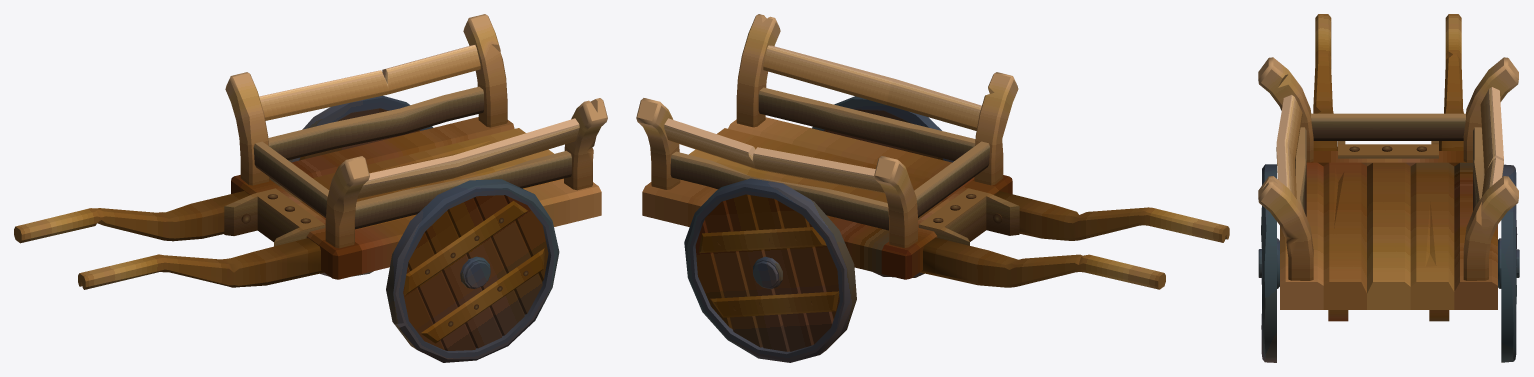
The model's file is wagon.glb.
3 renders of one model, left to right at view 1: azimuth 30°, elevation 25°; view 2: azimuth 150°, elevation 25°; view 3: azimuth 270°, elevation 25°, orthographic. The views are drawn at different scales.
Visible parts, largest first — view 1: wagon; view 2: wagon; view 3: wagon.
Boxes of the visible parts, x1=… form: wagon: x1=14, y1=14, x2=607, y2=362; wagon: x1=636, y1=14, x2=1229, y2=362; wagon: x1=1258, y1=14, x2=1519, y2=362.
Size of the model in its own units: 4.11 by 1.8 by 1.83.
Materials: 1 (1 with a texture image).
